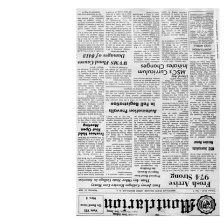news_paper: (75, 7, 221, 216)
